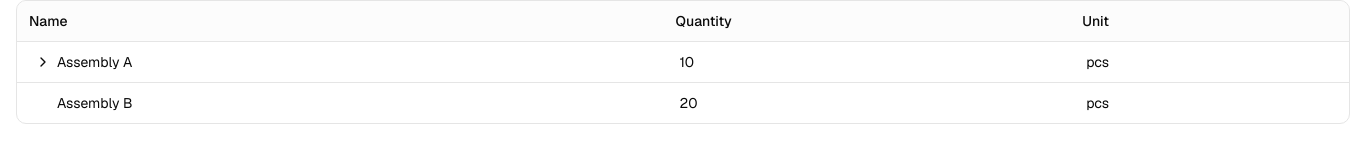
Test: EditableTreeTable › click editable cell enters edit mode
The width and height of the screenshot is (1366, 160).
Click the button "10" at (687, 62), box [680, 52, 694, 70]
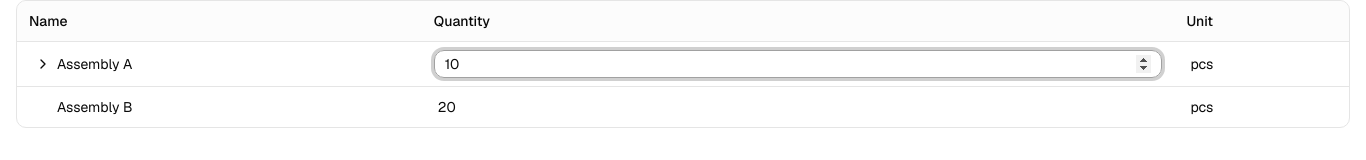
Now the number field showing "10" is shown, box [434, 50, 1162, 78]
